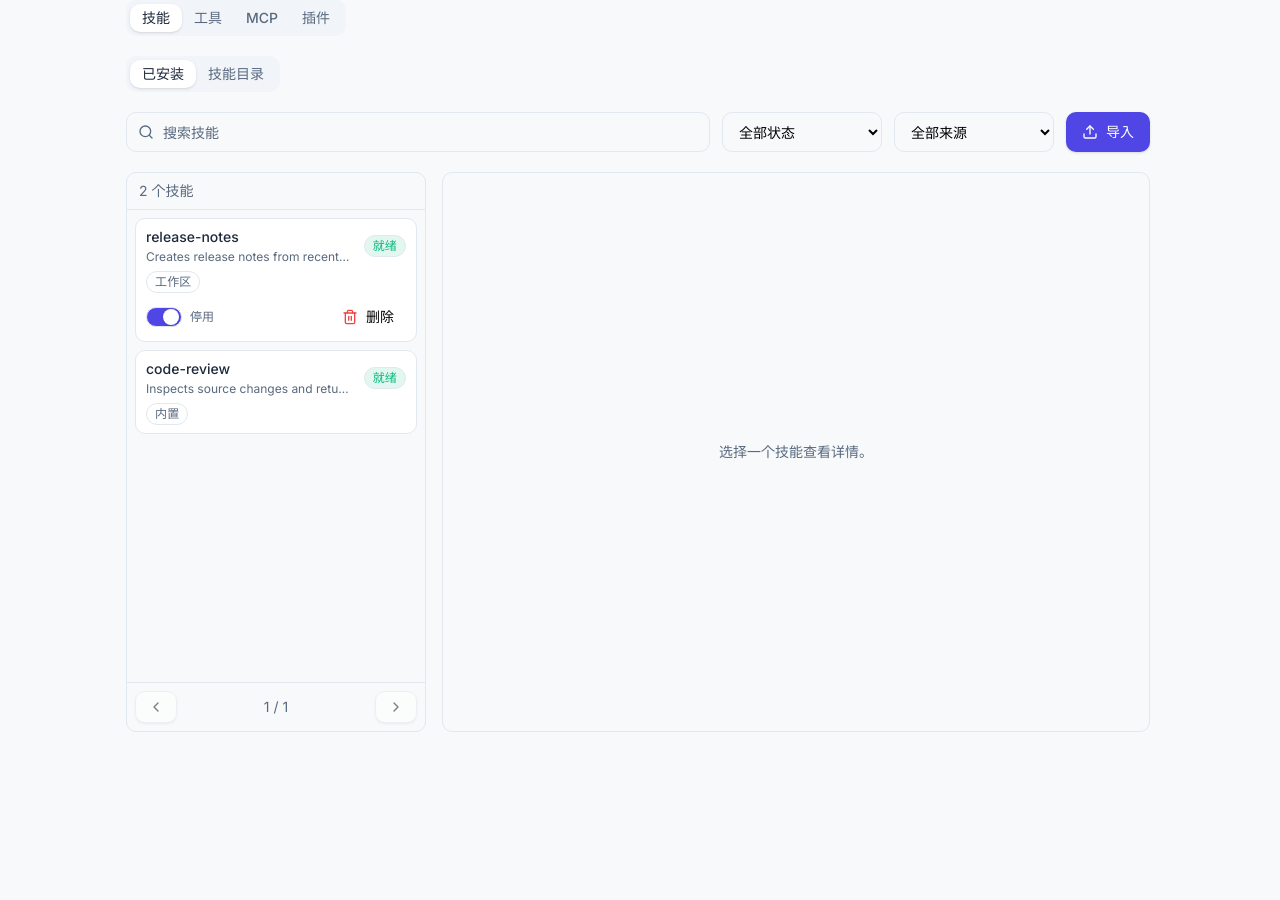
SkillsPage › renders an explicit installed-skill file read error
This screenshot has width=1280, height=900.
Step 1. Click the button "Creates release notes from recent changes" → (276, 260), box [146, 227, 406, 293]
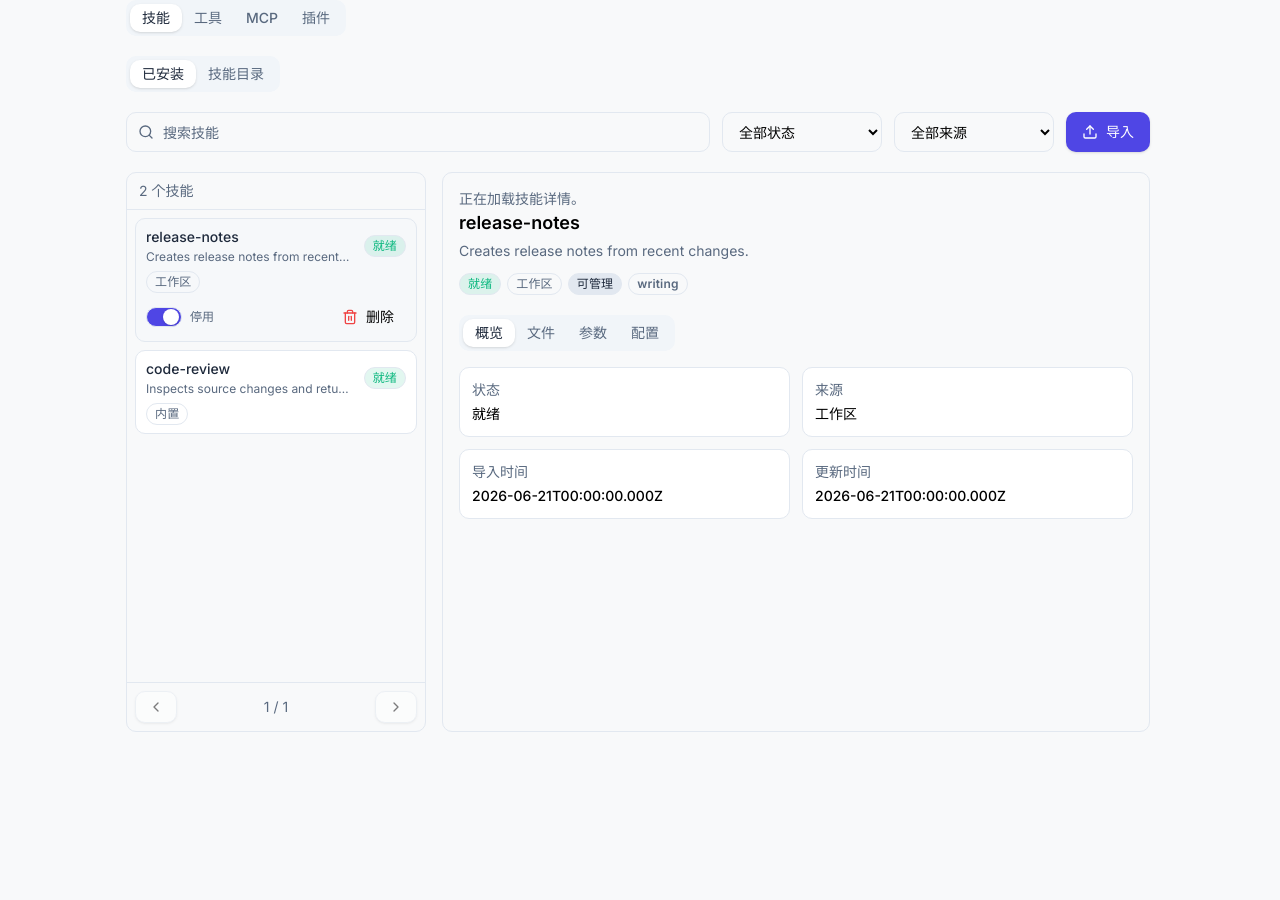
Step 2. Press the mouse on the tab "文件" → (541, 333), box [515, 319, 567, 347]
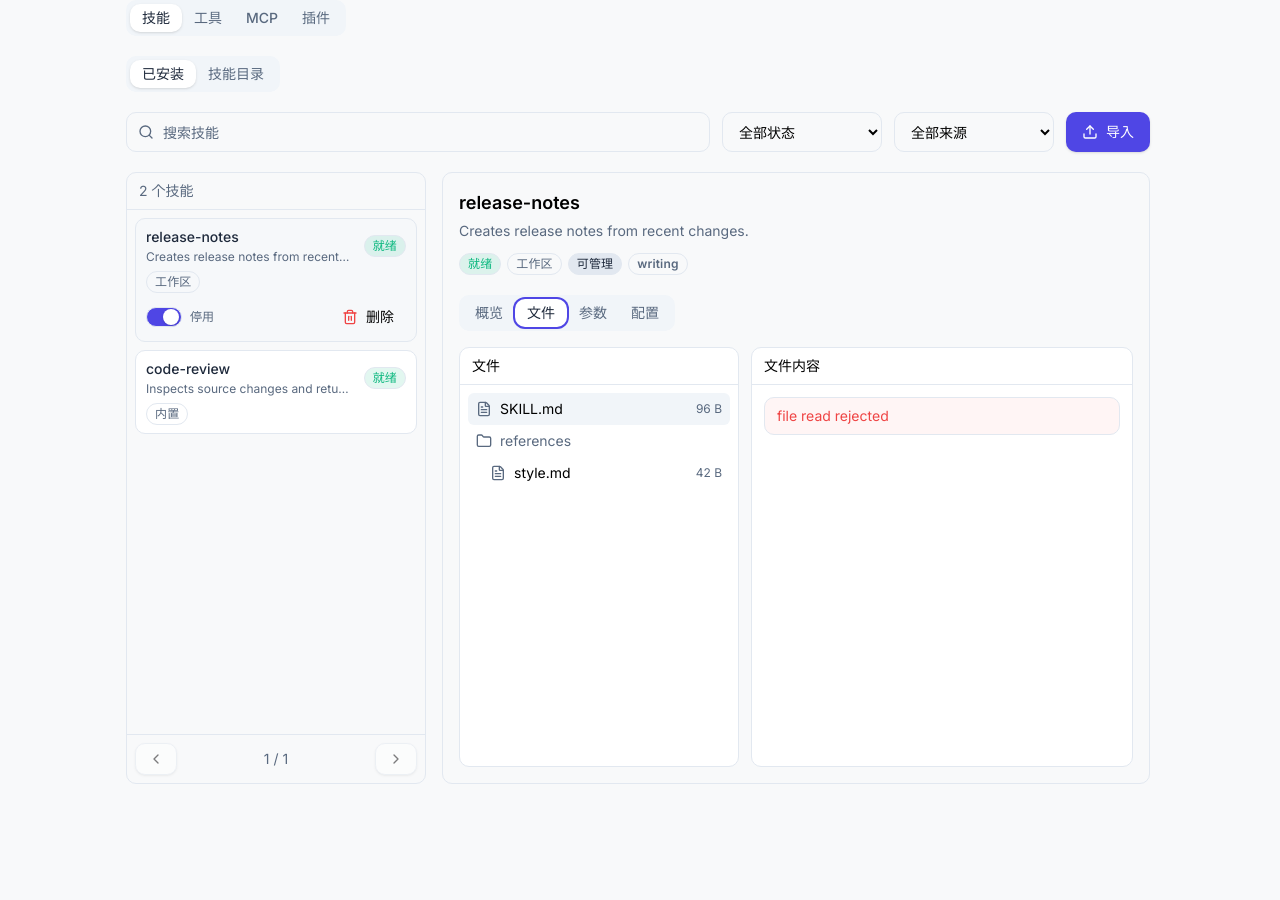
Expected: the text "file read rejected" is shown, [764, 397, 1120, 435]
